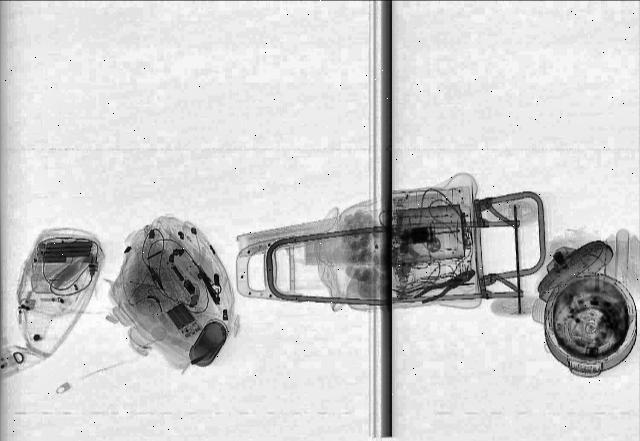Pliers: (408, 265, 484, 305)
